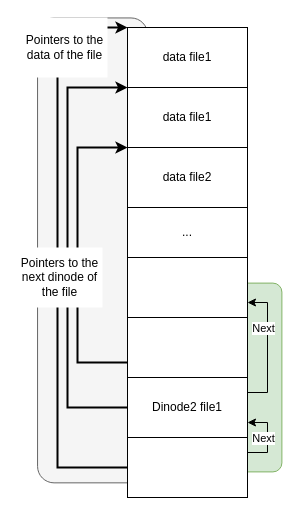
Image size: 299x515. Some labels were removed from this diagram. The shapes that lost their labels are listed below. From the top down, each one's centre as x and y in pixels, then its label:
(187,287): Dinode3 file1
(187,347): Dinode1 file2
(187,467): Dinode1 file1
